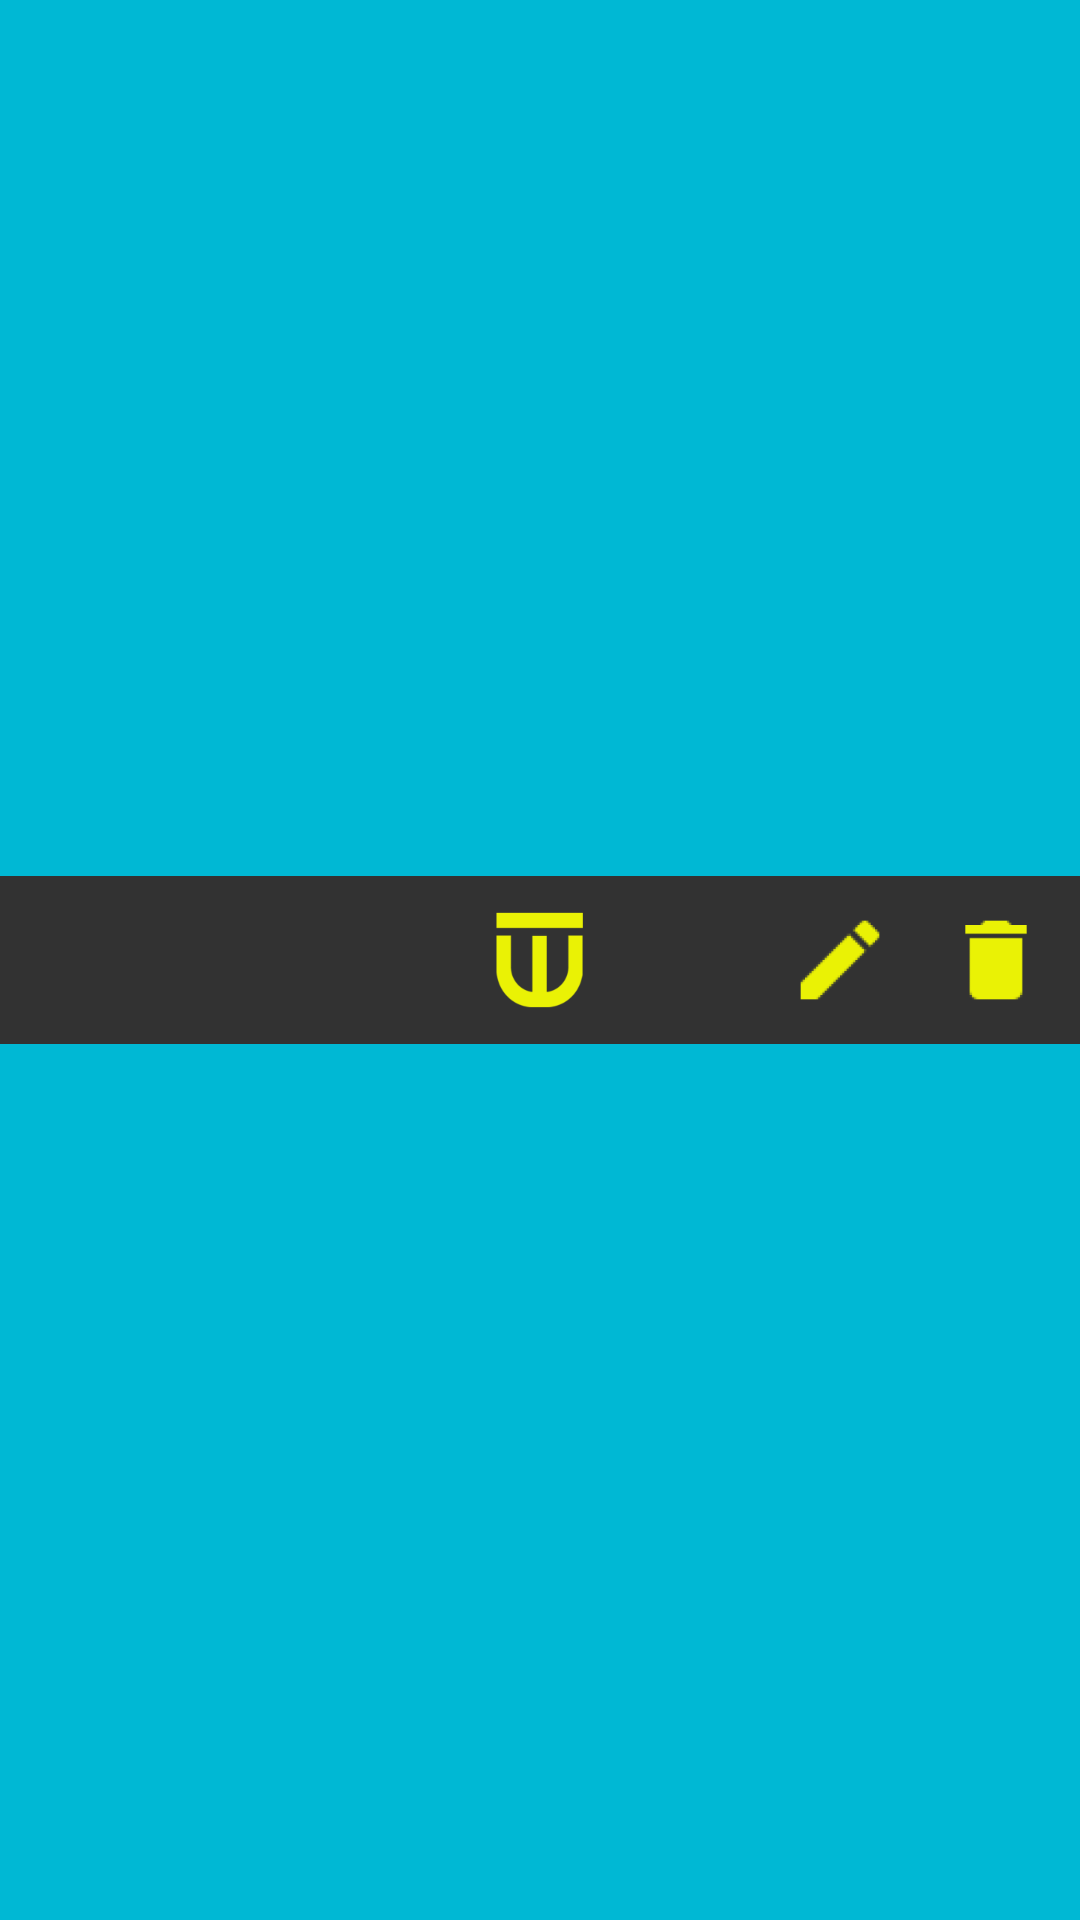

Named icons in this screenshot (1080×1920) and their centers, point (x, y):
delete: point (996, 960)
edit: point (840, 960)
